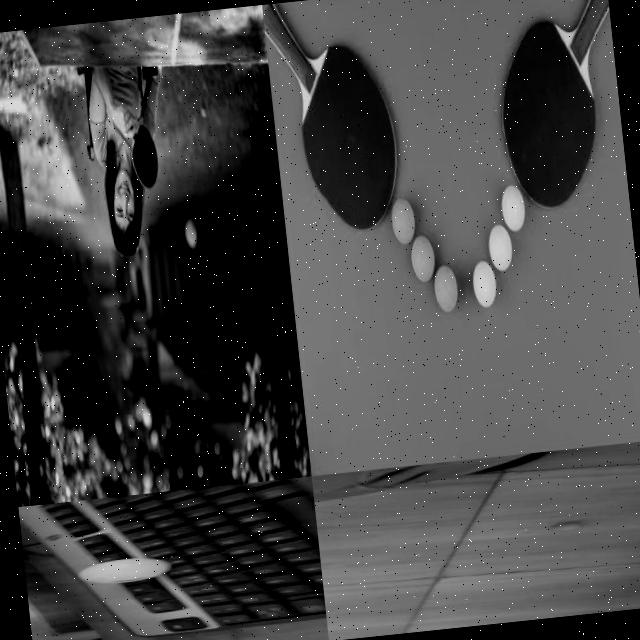ping-pong-ball: (78, 554, 170, 586), (434, 266, 461, 312), (472, 262, 499, 308), (389, 199, 416, 244), (488, 225, 515, 270), (500, 186, 527, 230), (410, 236, 436, 281), (184, 218, 198, 246), (550, 521, 582, 532)
